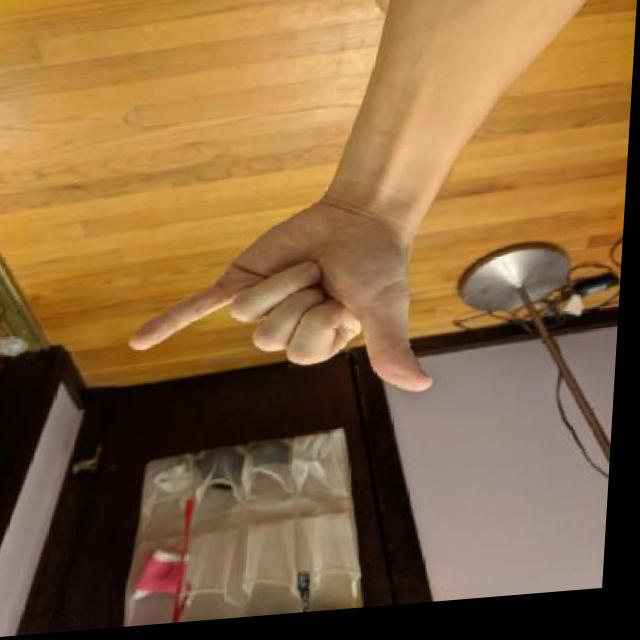Y: (125, 192, 456, 423)
